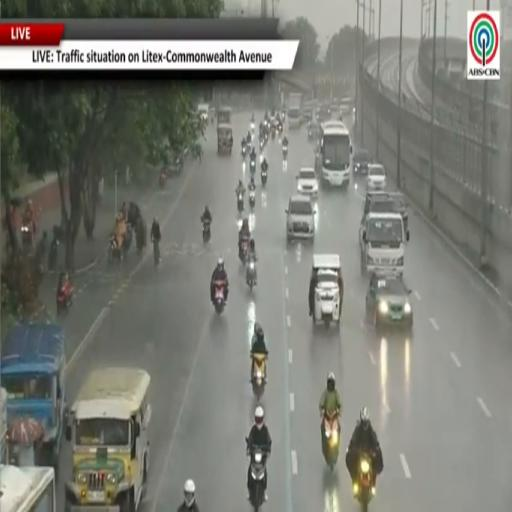bus: (0, 466, 56, 511), (316, 120, 352, 188), (0, 389, 8, 463)
car: (366, 271, 413, 331), (364, 190, 408, 232), (286, 195, 315, 242), (388, 192, 408, 232), (297, 168, 318, 197), (367, 164, 386, 189), (354, 149, 371, 174), (308, 117, 320, 140), (198, 104, 209, 122)
jeepney: (65, 367, 151, 511), (0, 324, 65, 468), (218, 124, 233, 154), (217, 107, 232, 125)
motorcycle: (353, 453, 375, 510), (248, 446, 267, 511), (322, 411, 339, 470), (252, 354, 266, 399), (57, 283, 73, 314), (214, 281, 226, 314), (48, 235, 59, 270), (108, 235, 122, 262), (21, 221, 33, 251), (238, 238, 250, 264), (246, 258, 255, 290), (153, 240, 160, 268), (203, 220, 211, 243), (237, 193, 244, 213), (249, 190, 255, 210), (159, 172, 166, 188), (261, 170, 267, 186), (271, 125, 276, 140), (283, 146, 288, 161), (250, 159, 255, 174), (242, 146, 247, 158), (260, 136, 264, 150), (277, 122, 282, 133), (250, 121, 255, 131)
truck: (288, 93, 302, 129)
